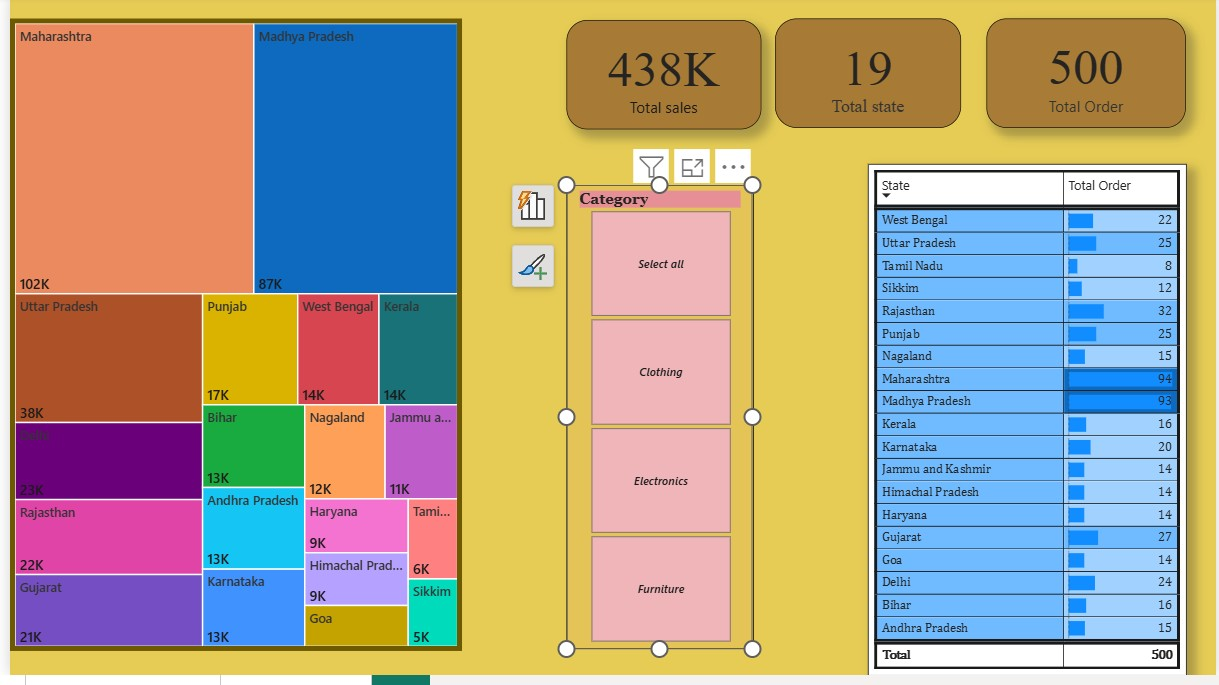

What the dashboard file says about the page in this screenshot:
{"tool":"powerbi","page":{"name":"order table","canvas":[1280,720],"ordinal":2},"visuals":[{"type":"treemap","fields":{"Group":["Orders.State","Orders.City"],"Values":["Measure table.Total sales"]},"box":[0,24.3,479.3,670.4],"z":0},{"type":"card","fields":{"Values":["Measure table.Total Order"]},"box":[1035.5,23.9,211.6,116.1],"z":1},{"type":"card","fields":{"Values":["Measure table.Total state"]},"box":[811.2,23.9,197.2,116.1],"z":2},{"type":"card","fields":{"Values":["Measure table.Total sales"]},"box":[590.1,25.4,206.8,116.1],"z":3},{"type":"tableEx","fields":{"Values":["Orders.State","Measure table.Total Order"]},"box":[909.4,178.2,338.2,542.8],"z":4},{"type":"slicer","fields":{"Values":["Details.Category"]},"box":[589.4,200.5,198.5,492.2],"z":5}]}

Visuals, with their boxes in screenshot pixels (x1, y1, x2, y2), scaled from the page's 1280x720 canvas onto the 1219x685 screenshot:
treemap - Orders.State x Orders.City: <box>0,23,456,661</box>
card - Measure table.Total Order: <box>986,23,1188,133</box>
card - Measure table.Total state: <box>773,23,960,133</box>
card - Measure table.Total sales: <box>562,24,759,135</box>
tableEx - Orders.State x Measure table.Total Order: <box>866,170,1188,684</box>
slicer - Details.Category: <box>561,191,750,659</box>
